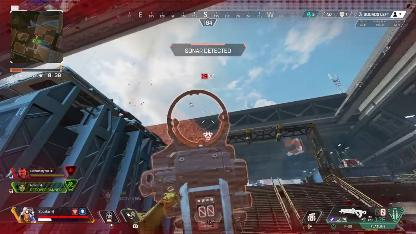Target: (188, 101, 194, 107)
